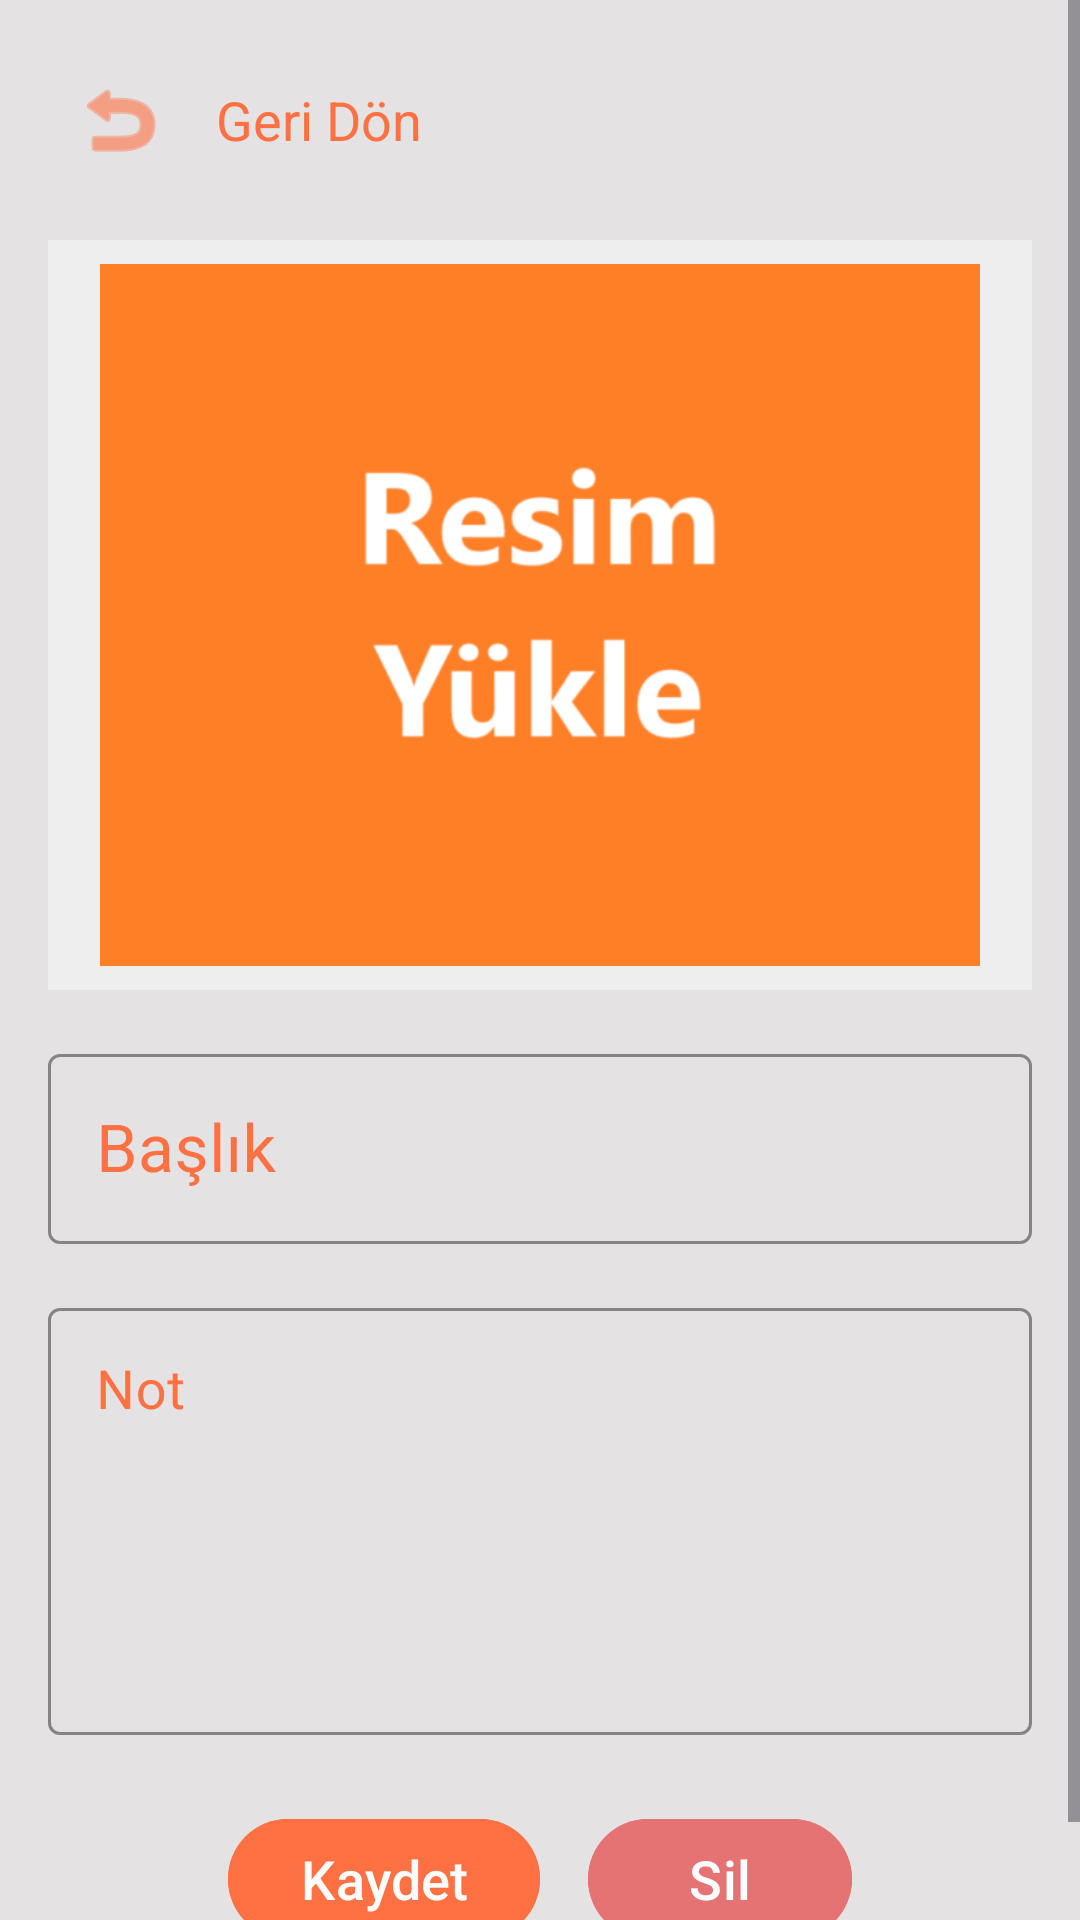

Icon bounding boxes for this 1080px x 1920px phone screenshot, format detection(x1, y1, x2, y2):
revert: detection(87, 90, 156, 152)
